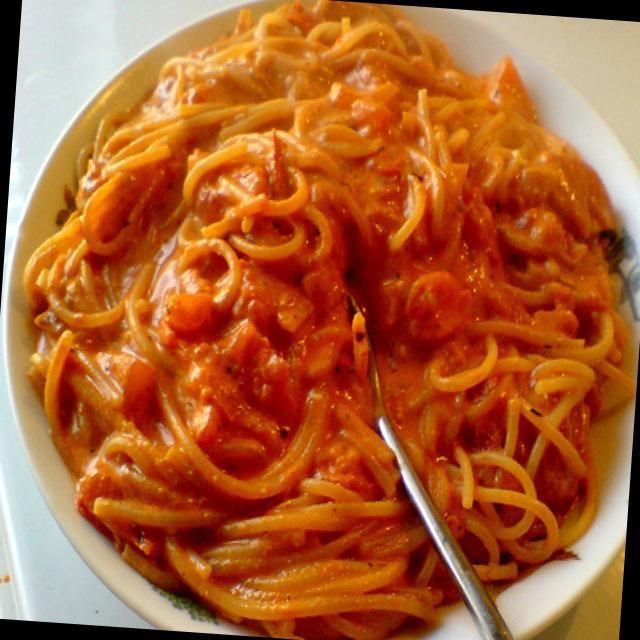Pasta: (0, 0, 640, 631)
